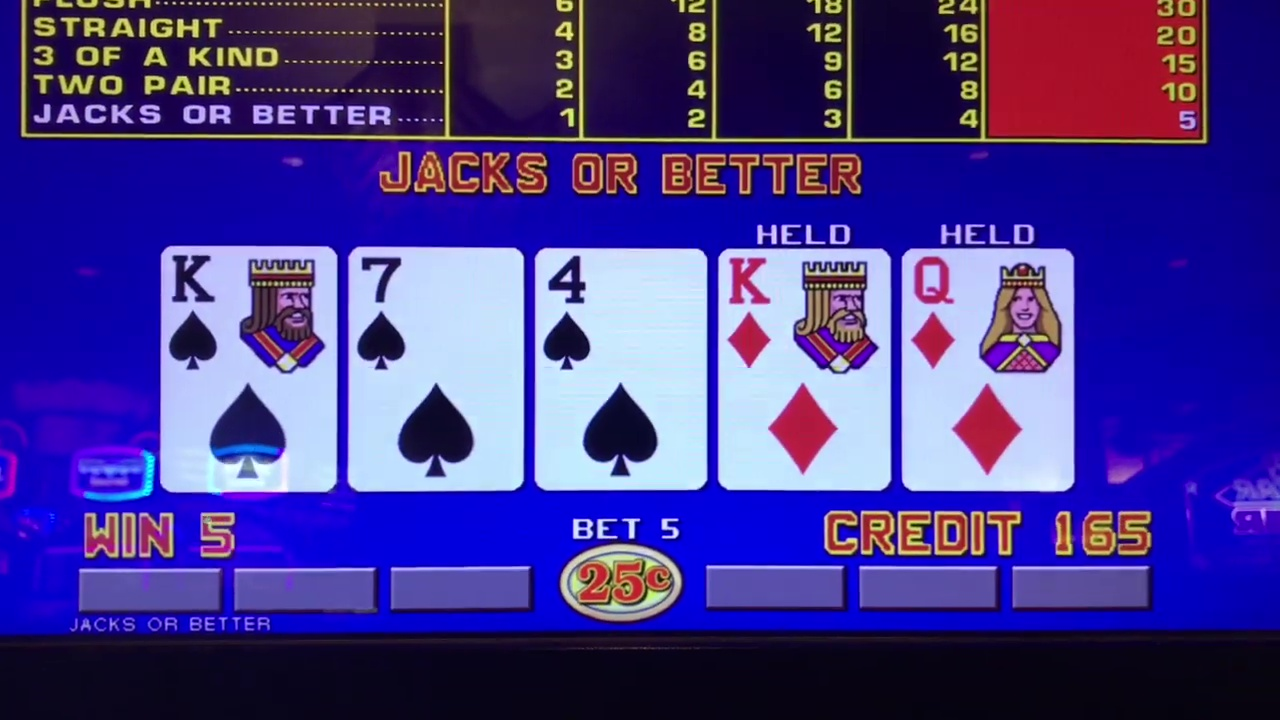DK: (723, 250, 884, 379)
DQ: (903, 249, 1069, 380)
S4: (537, 250, 702, 379)
S7: (350, 251, 514, 382)
SK: (167, 246, 332, 379)
